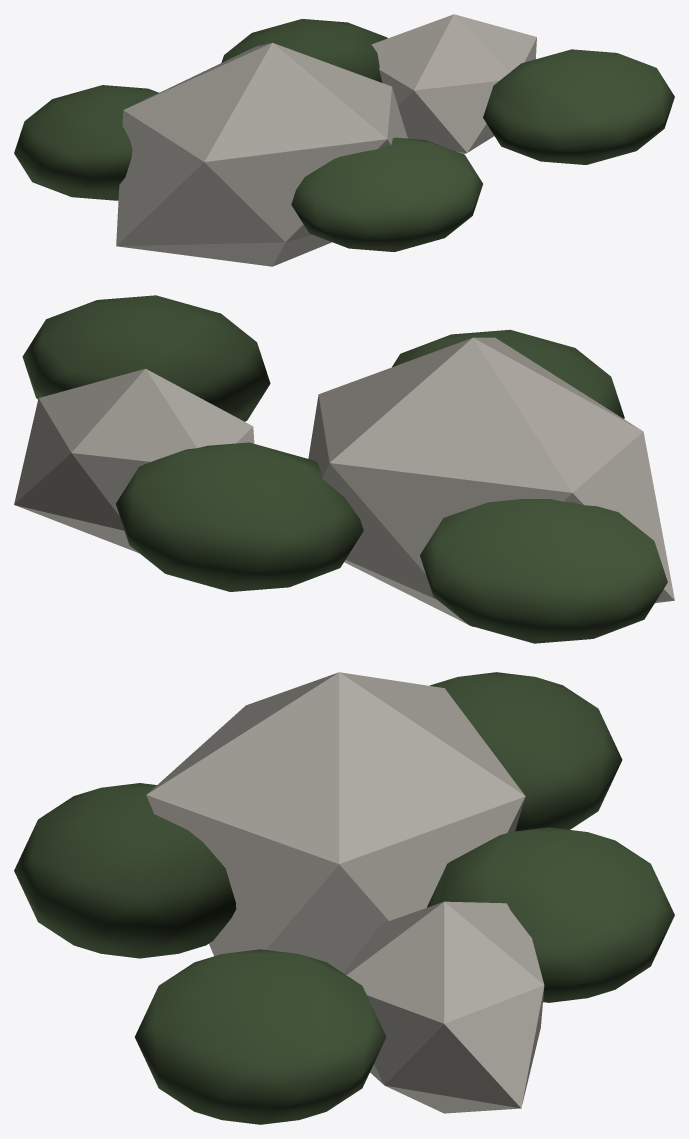
The model's file is scatter4.fbx.
The picture shows the model from 3 angles, top to bottom: view 1: azimuth 30°, elevation 25°; view 2: azimuth 150°, elevation 25°; view 3: azimuth 270°, elevation 25°; orthographic projection. The views are drawn at different scales.
Parts seen in each view (by area): view 1: a2000/800/scatter4; view 2: a2000/800/scatter4; view 3: a2000/800/scatter4.
Boxes of the visible parts, x1,y1,x2,y2 form: a2000/800/scatter4: (14, 14, 674, 266); a2000/800/scatter4: (14, 295, 674, 643); a2000/800/scatter4: (14, 672, 674, 1124).
Bounding box in the file's own units: 1.78 × 0.6892 × 1.26.
